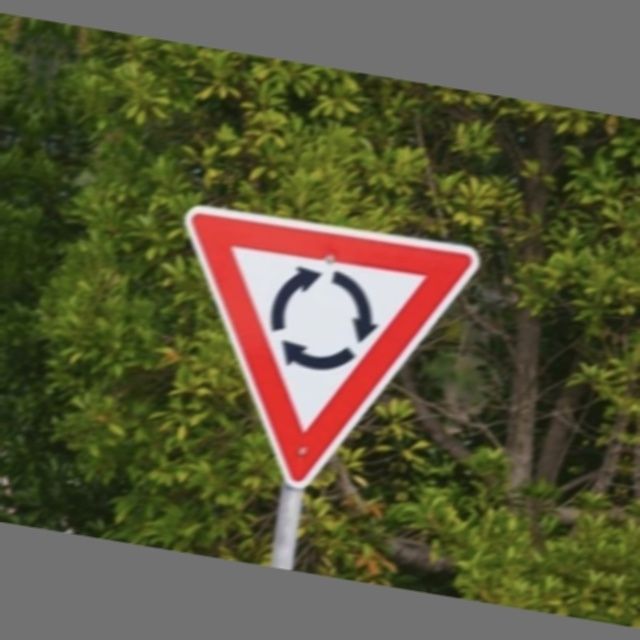Round_About: (149, 191, 480, 506)
